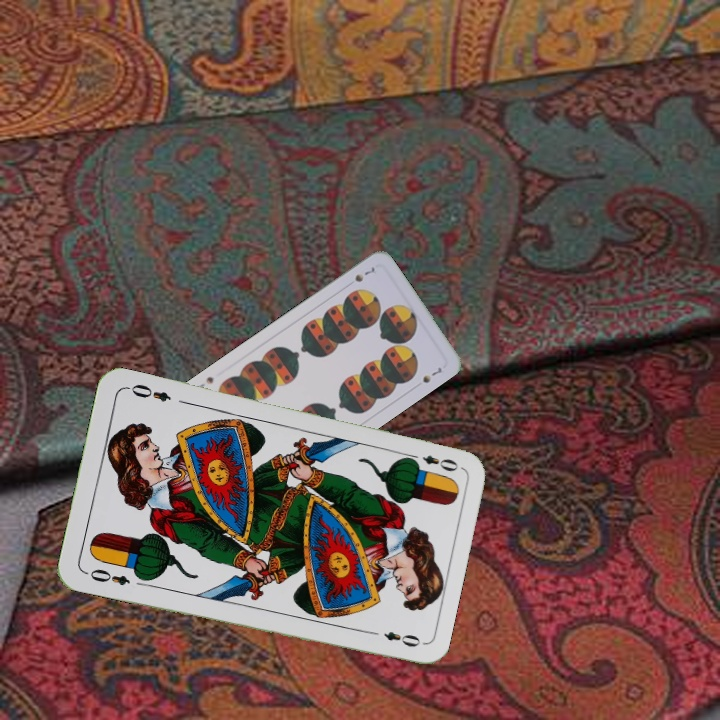EO: (403, 449, 461, 474), (81, 564, 133, 589)
S7: (350, 262, 378, 285)
